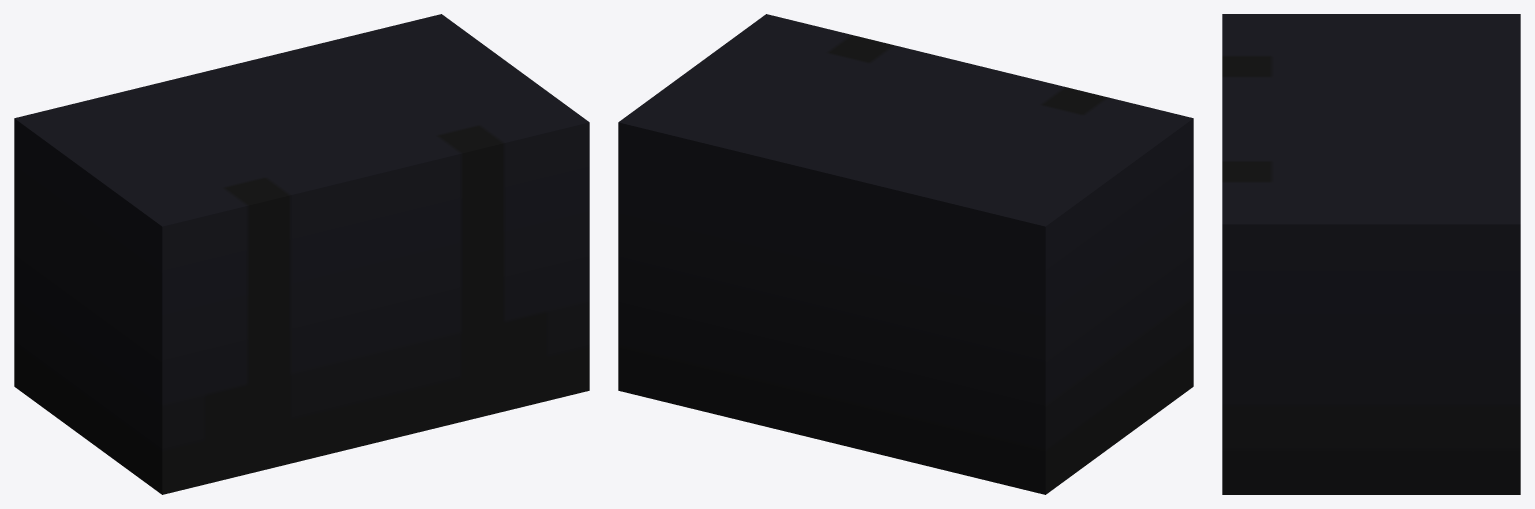
Rendered from Spine079.fbx.
3 renders of one model, left to right at view 1: azimuth 30°, elevation 25°; view 2: azimuth 150°, elevation 25°; view 3: azimuth 270°, elevation 25°, orthographic.
Visible parts, largest first — view 1: Spine079; view 2: Spine079; view 3: Spine079.
Boxes of the visible parts, <box> form: Spine079: <box>14,14,589,494</box>; Spine079: <box>618,14,1193,494</box>; Spine079: <box>1222,14,1520,494</box>.
Bounding box in the file's own units: 10 × 6 × 6.
